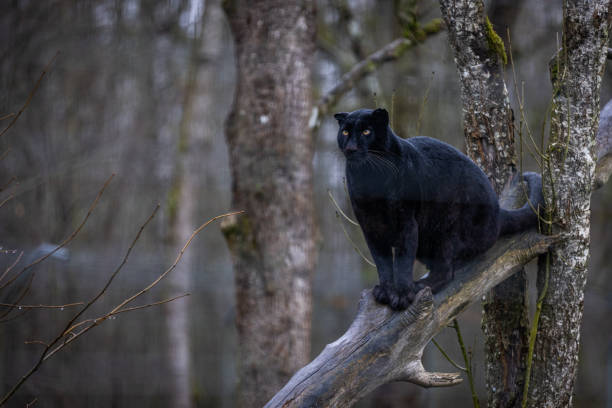panther: (328, 108, 392, 166)
